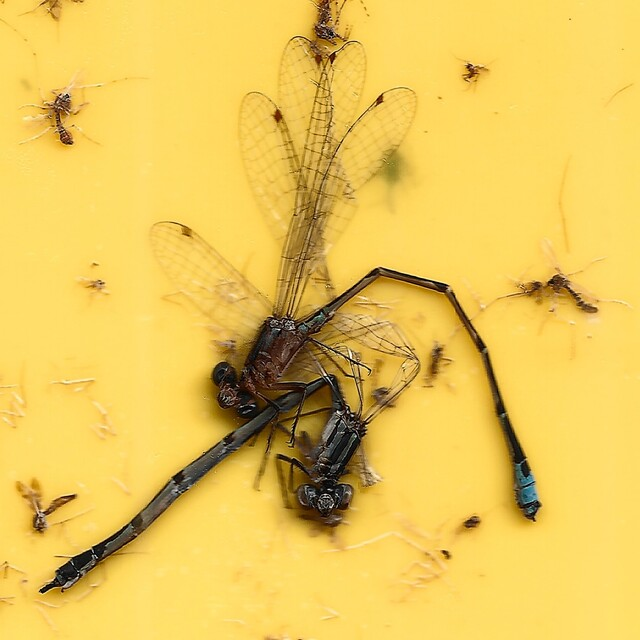Nematocera: (549, 268, 602, 319), (421, 341, 454, 388), (515, 280, 545, 307)
Odonata: (38, 92, 421, 599), (210, 41, 547, 525)
